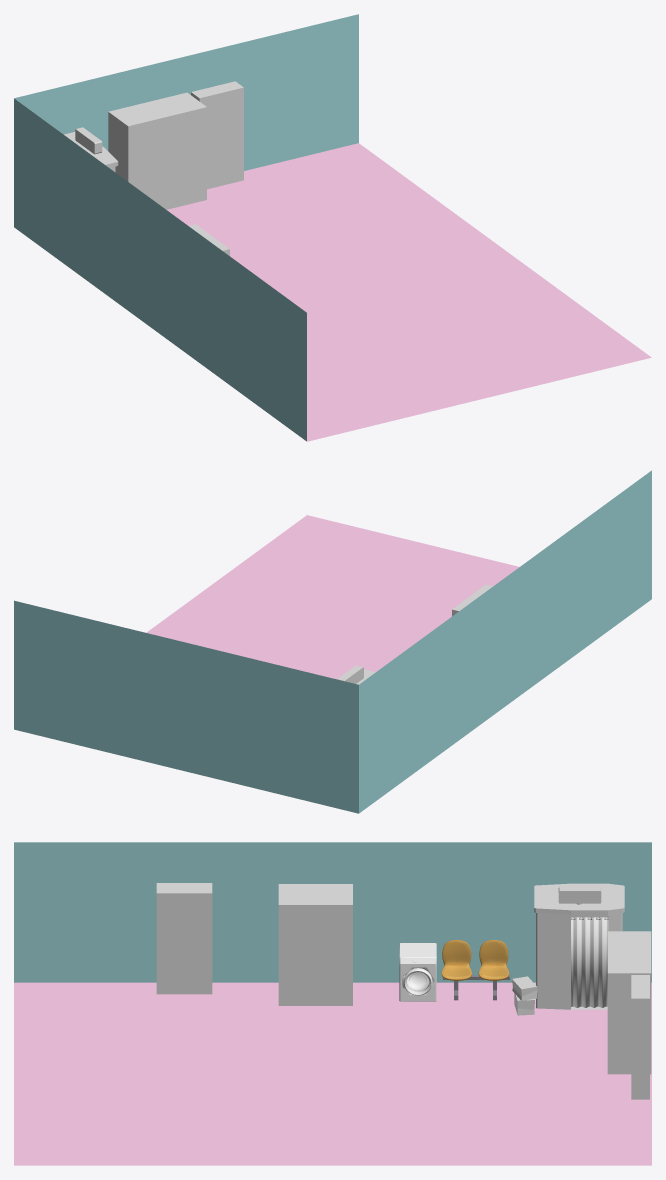
File: mainscene.glb
3 views of the same model, one above another, from view 1: azimuth 30°, elevation 25°; view 2: azimuth 150°, elevation 25°; view 3: azimuth 270°, elevation 25° (orthographic). The views are drawn at different scales.
Parts seen in each view (by area): view 1: Floor, Cube.013, Cube.014; view 2: Floor; view 3: Floor, Cube.011, Cube.012, Photobooth, Cube.013, Plane.001, Cube.014, Cube, Cube.006, Cube.001, Cube.002, Box2.
Boxes of the visible parts, x1,y1,x2,y2 form: Floor: [14, 14, 651, 441]; Cube.013: [108, 92, 206, 209]; Cube.014: [191, 81, 243, 189]; Floor: [14, 470, 651, 813]; Floor: [14, 842, 651, 1165]; Cube.011: [278, 884, 352, 1005]; Cube.012: [156, 883, 212, 994]; Photobooth: [534, 883, 624, 1009]; Cube.013: [607, 931, 651, 1074]; Plane.001: [571, 917, 608, 1007]; Cube.014: [631, 975, 649, 1099]; Cube: [399, 943, 436, 1001]; Cube.006: [478, 940, 508, 980]; Cube.001: [441, 940, 471, 980]; Cube.002: [558, 887, 601, 903]; Box2: [512, 976, 537, 1000].
Size of the model in its own units: 7 by 2.5 by 10.3.
Materials: 7 (1 with a texture image).
